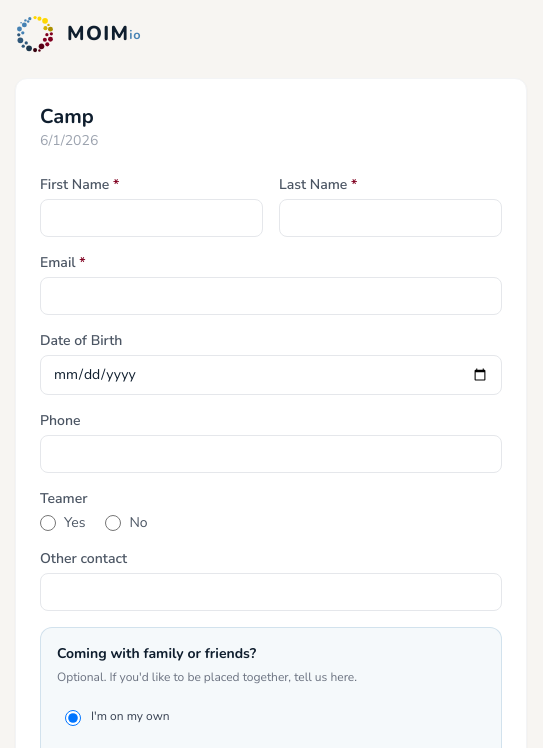
Test: RegisterPage conditional fields › shows the consent note, with its link, to someone under 18 on the start date
Check: the field named "email" below "Email" is shown, box [40,277,502,315]
Check: the text "Parental consent" is not shown
In the date field: coordinates (271, 375) [40,355,502,395], type "2008-06-02"
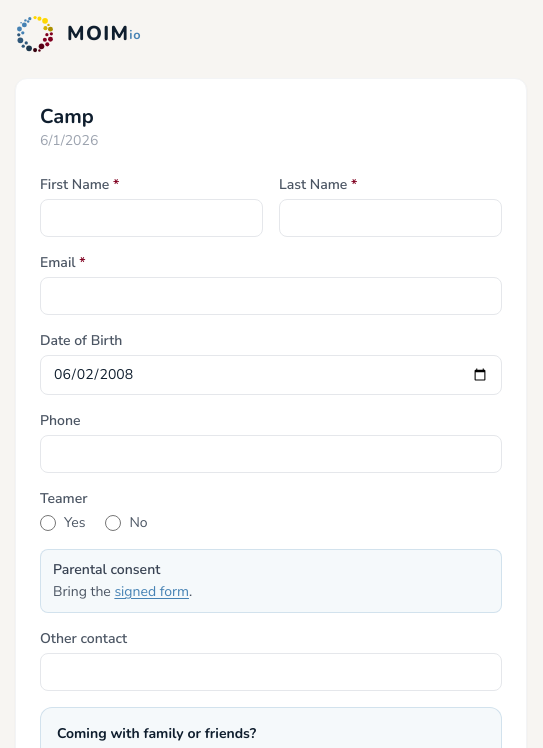
Check: the text "Parental consent" is shown, box [53,560,160,579]
In the date field: coordinates (271, 375) [40,355,502,395], type "2008-06-01"
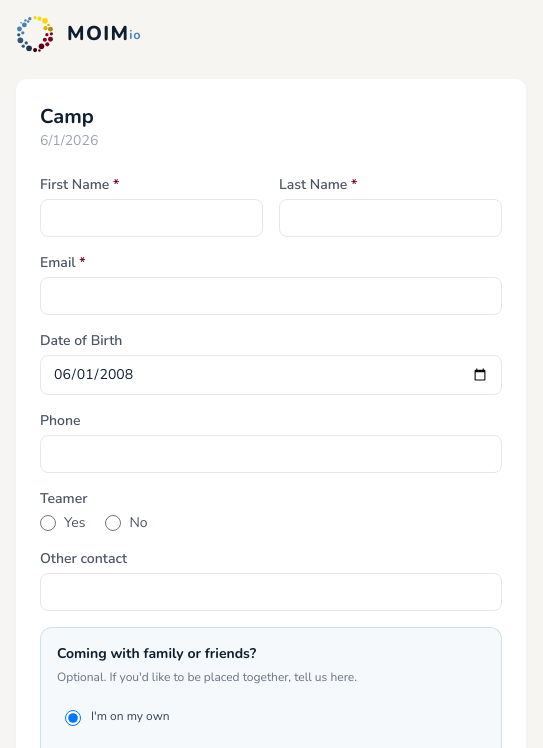
Check: the text "Parental consent" is gone
